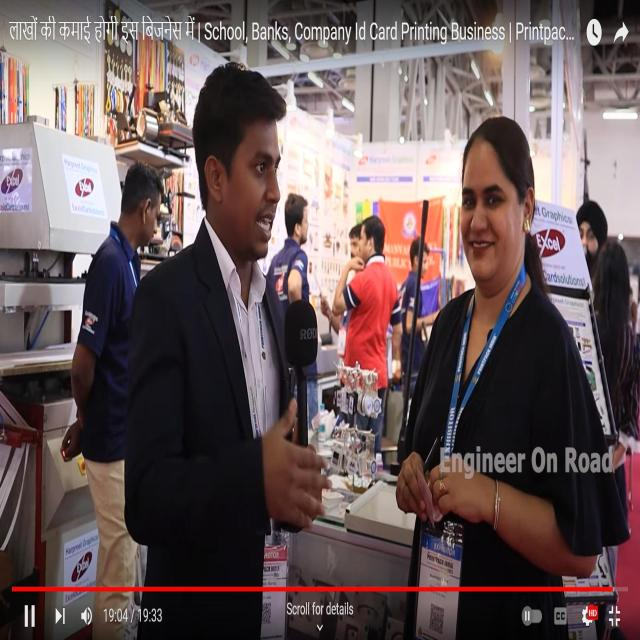Card: (413, 511, 462, 640), (258, 536, 292, 640)
